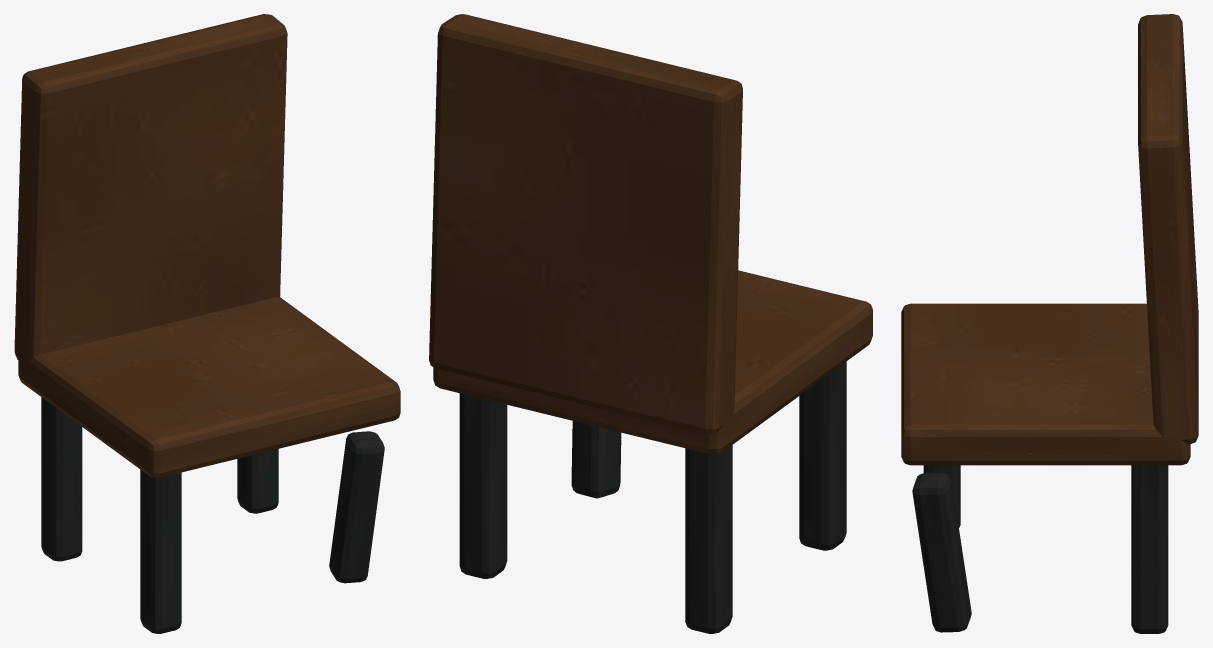
File: broken-chair-v1.glb
3 renders of one model, left to right at view 1: azimuth 30°, elevation 25°; view 2: azimuth 150°, elevation 25°; view 3: azimuth 270°, elevation 25°, orthographic. The views are drawn at different scales.
Visible parts, largest first — view 1: chair_back, chair_seat, chair_leg_0, chair_leg_2, chair_leg_1, chair_leg_3; view 2: chair_back, chair_seat, chair_leg_3, chair_leg_2, chair_leg_0, chair_leg_1; view 3: chair_seat, chair_back, chair_leg_1, chair_leg_3, chair_leg_0.
Boxes of the visible parts, box(x1,y1,x2,y2) form: chair_back: box(14, 14, 287, 364); chair_seat: box(18, 297, 400, 477); chair_leg_0: box(140, 470, 181, 633); chair_leg_2: box(41, 397, 82, 561); chair_leg_1: box(329, 431, 384, 583); chair_leg_3: box(237, 449, 278, 513); chair_back: box(429, 14, 742, 434); chair_seat: box(433, 270, 872, 454); chair_leg_3: box(459, 393, 507, 578); chair_leg_2: box(685, 445, 732, 633); chair_leg_0: box(799, 361, 846, 550); chair_leg_1: box(571, 421, 621, 498); chair_seat: box(901, 303, 1190, 465); chair_back: box(1138, 14, 1198, 444); chair_leg_1: box(912, 472, 971, 632); chair_leg_3: box(1131, 465, 1168, 633); chair_leg_0: box(923, 465, 960, 527).
Bounding box in the file's own units: 0.82 × 1.5 × 0.8017.
2 materials, 2 textured.
